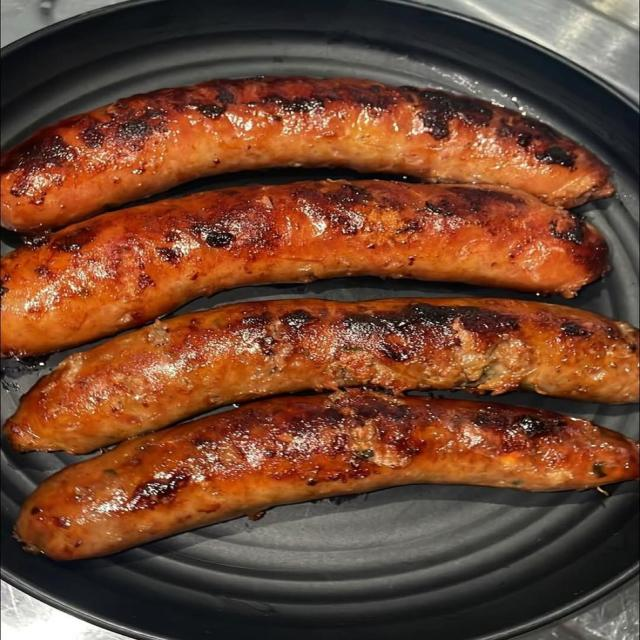sausage: (1, 181, 607, 356), (15, 390, 638, 559), (5, 299, 639, 453), (1, 78, 613, 231)
